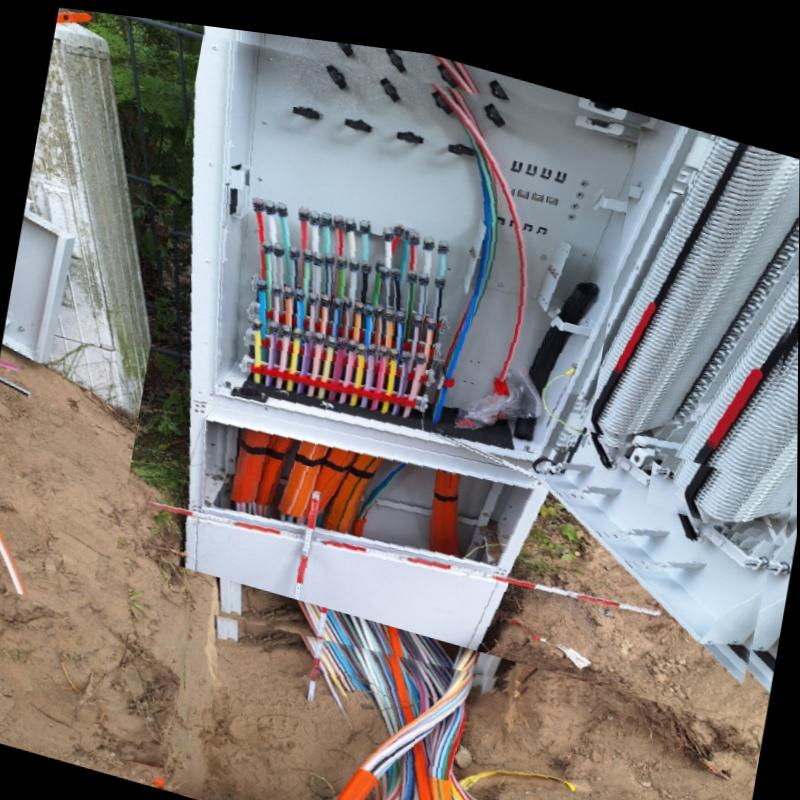NT-Gehause: (190, 22, 800, 660)
Orang-Speednetrohrchen: (307, 626, 504, 800)
Spleiskassetten: (591, 115, 800, 423), (651, 199, 799, 513)
